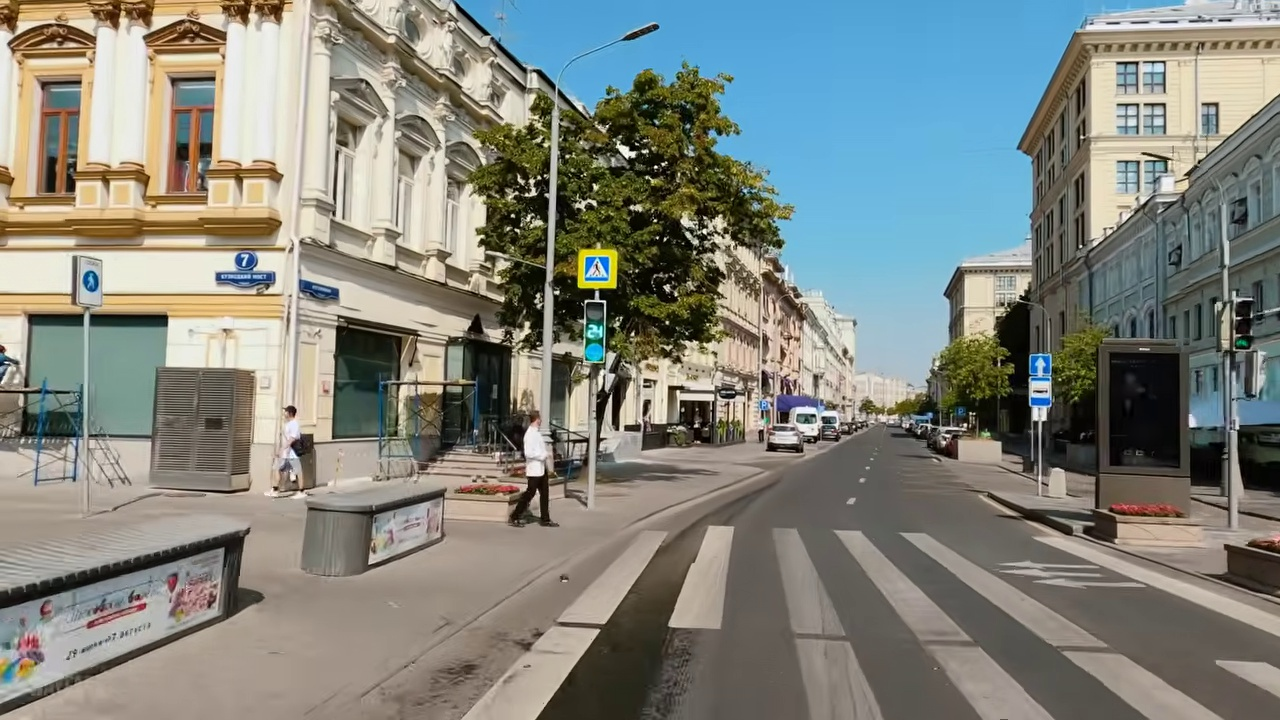apagada: (1132, 139, 1176, 172), (625, 23, 657, 43)
